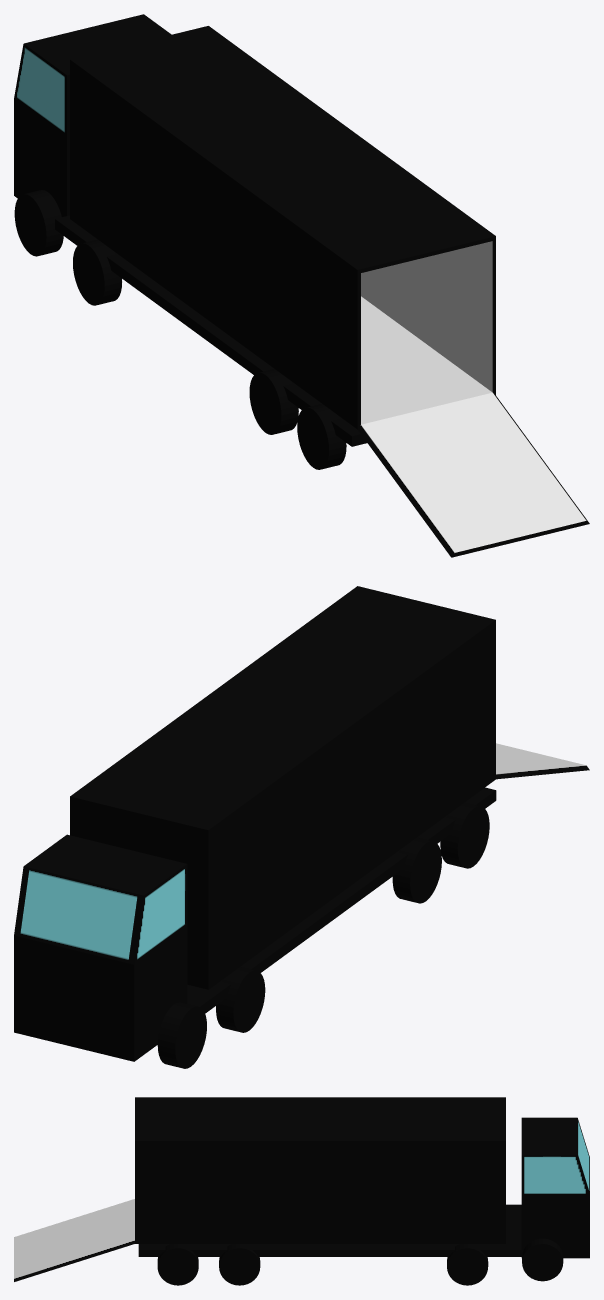
Rendered from FBI_Truck.fbx.
3 views of the same model, one above another, from view 1: azimuth 30°, elevation 25°; view 2: azimuth 150°, elevation 25°; view 3: azimuth 270°, elevation 25° (orthographic). The views are drawn at different scales.
Visible parts, largest first — view 1: FBI_Truck; view 2: FBI_Truck; view 3: FBI_Truck.
Part boxes in pixels (x1,y1,x2,y2): FBI_Truck: [14, 14, 589, 557]; FBI_Truck: [14, 586, 589, 1068]; FBI_Truck: [14, 1097, 589, 1285].
Bounding box in the file's own units: 575 × 758 × 2795.
1 material, 1 textured.
